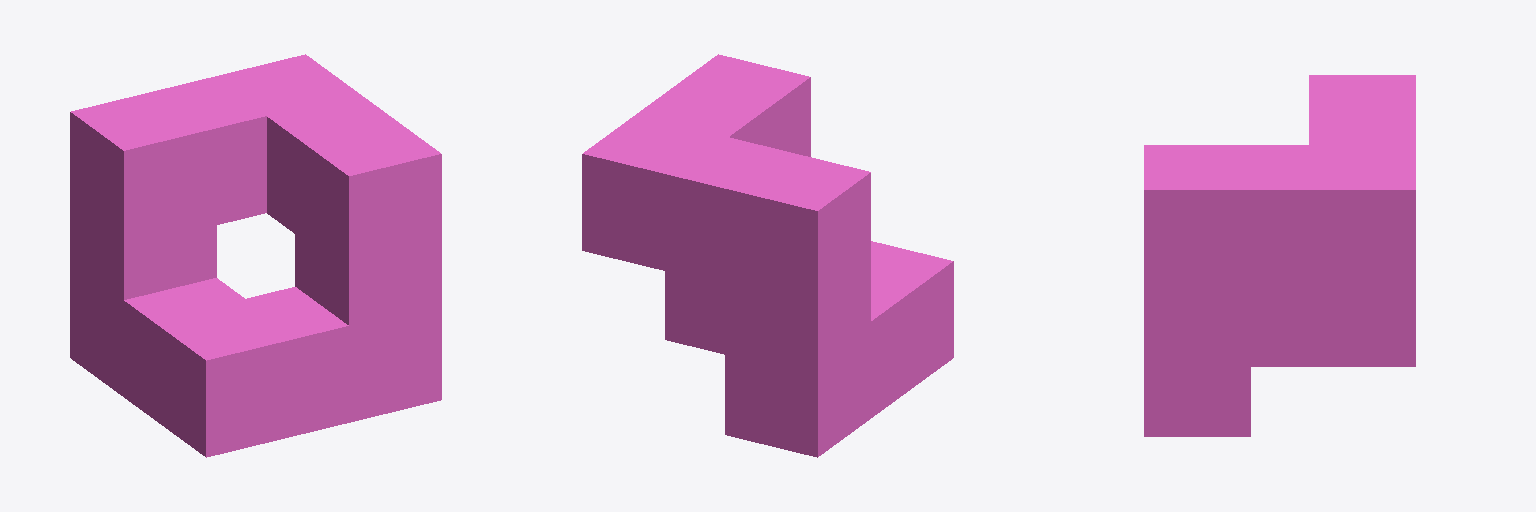
File: capa3.obj
3 renders of one model, left to right at view 1: azimuth 30°, elevation 25°; view 2: azimuth 150°, elevation 25°; view 3: azimuth 270°, elevation 25°, orthographic.
Size of the model in its own units: 2.34 by 2.34 by 2.34.